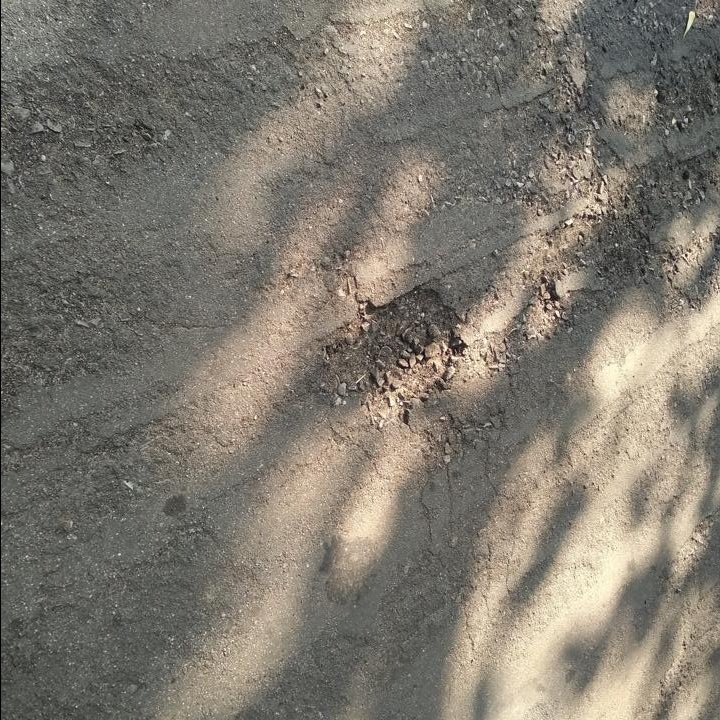pothole: (323, 277, 461, 429)
